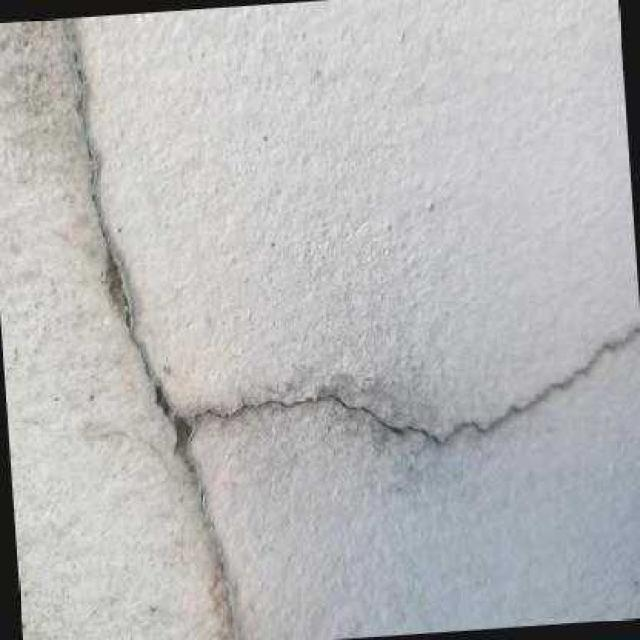D00: (63, 16, 638, 640)
